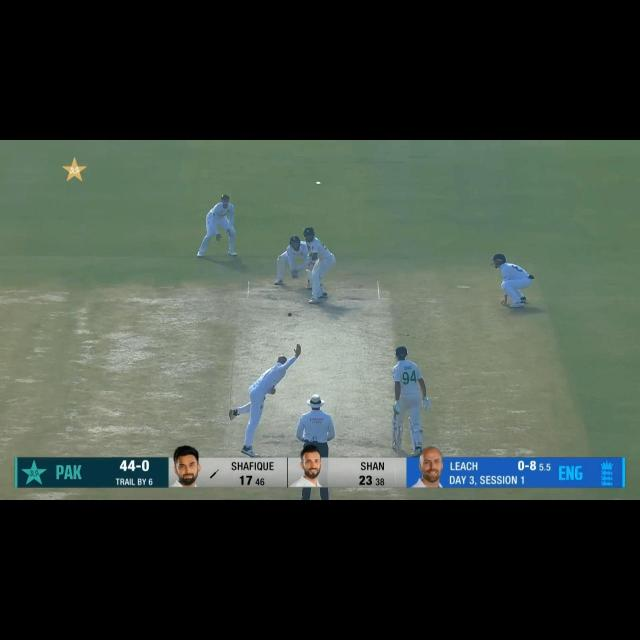bat: (391, 419, 398, 452), (308, 246, 311, 251)
toe: (391, 445, 398, 452)
